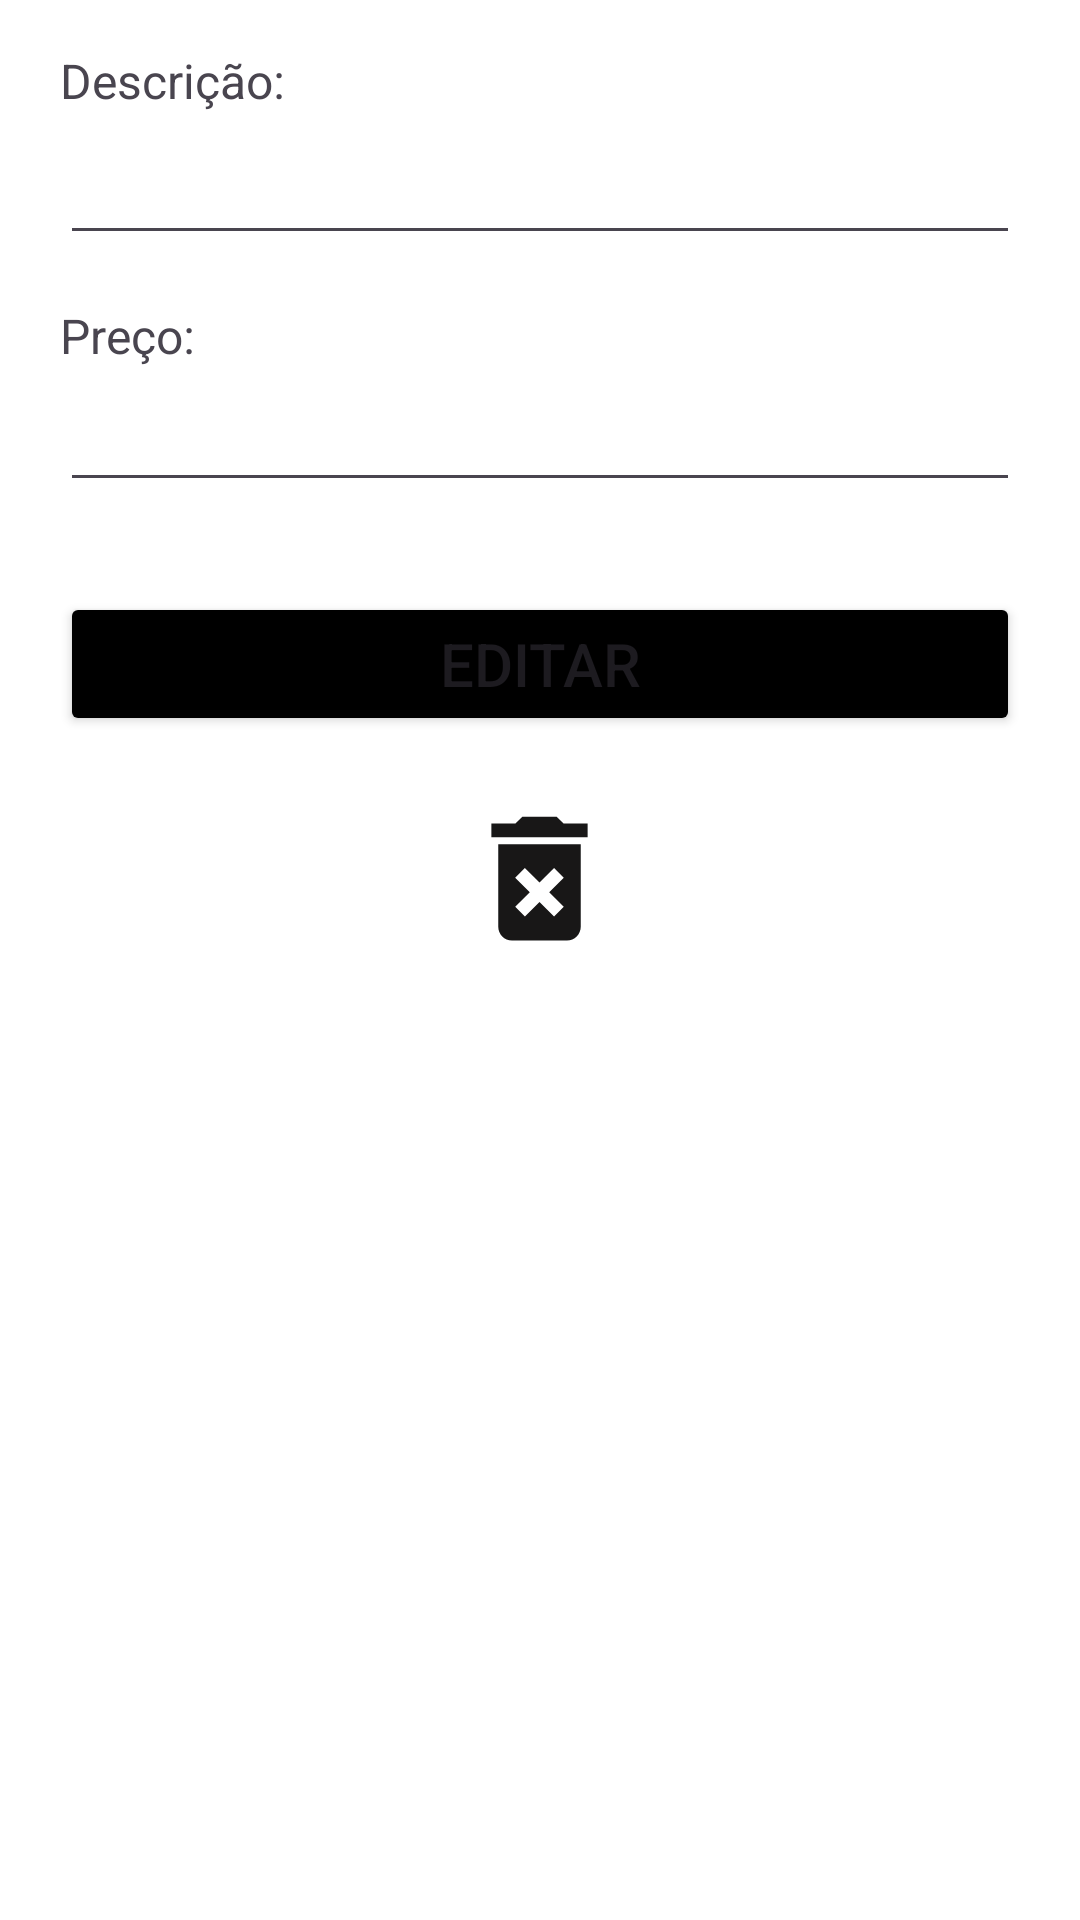

Where icons sit on this 1080w x 1920h app screen, as [left=x1, top=y1, right=x2, bottom=y2]:
delete: [left=491, top=816, right=588, bottom=941]
